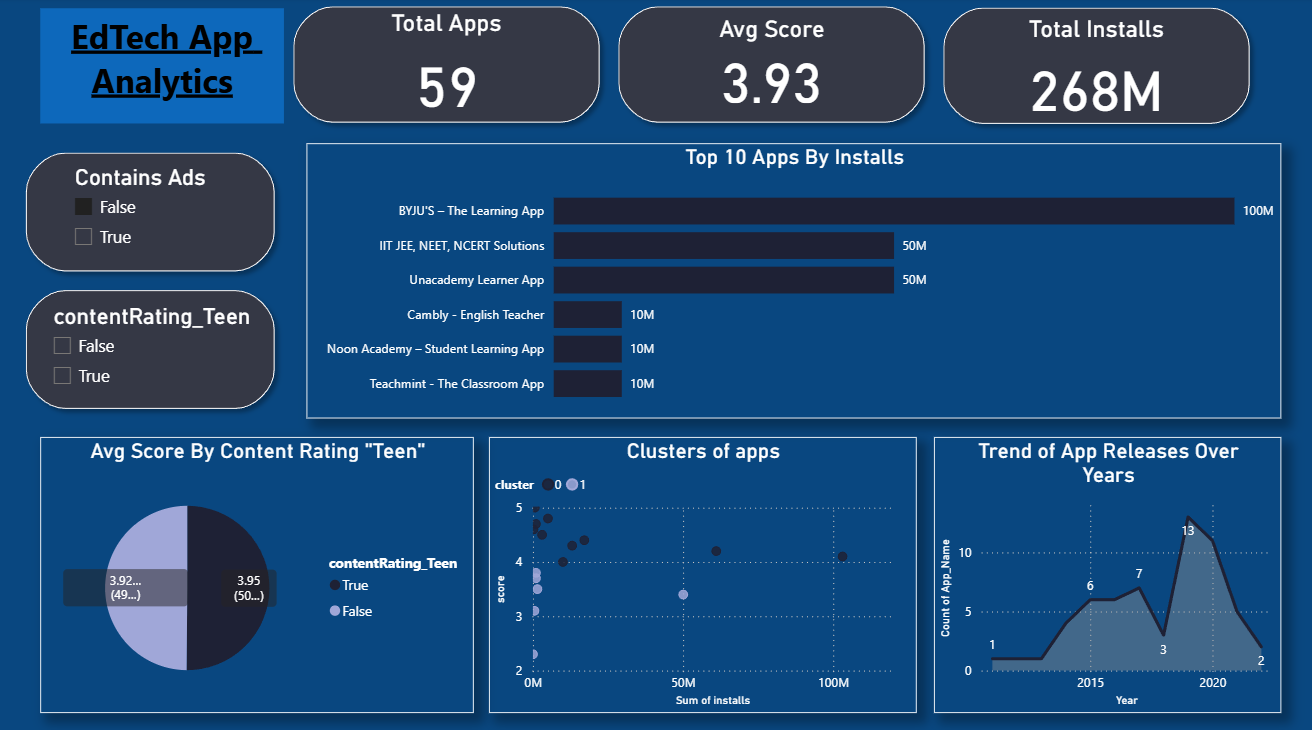

The dashboard page shown, as its layout file describes it:
{"tool":"powerbi","page":{"name":"Insights","canvas":[1280,720],"ordinal":0},"visuals":[{"type":"shape","box":[275.1,0,313.7,130.3],"z":0},{"type":"textbox","box":[39.8,10.9,235.3,111],"z":1000},{"type":"card","title":"Total Apps","fields":{"Values":["Count(edtech_with_clusters.App_Name)"]},"box":[339,10.9,185.8,111],"z":2000},{"type":"shape","box":[588.7,0,313.7,130.3],"z":3000},{"type":"card","title":"Avg Score","fields":{"Values":["Avg(edtech_with_clusters.score)"]},"box":[657.5,16.9,177.3,90.5],"z":4000},{"type":"shape","box":[902.4,1.2,313.7,130.3],"z":5000},{"type":"card","title":"Total Installs","fields":{"Values":["Sum(edtech_with_clusters.installs)"]},"box":[968.8,16.9,181,105],"z":6000},{"type":"shape","box":[16.9,141.2,258.2,132.7],"z":7000},{"type":"slicer","fields":{"Values":["edtech_with_clusters.containsAds_True"]},"box":[60.3,156.8,189.4,102.5],"z":8000},{"type":"shape","box":[16.9,273.9,258.2,132.7],"z":9000},{"type":"slicer","fields":{"Values":["edtech_with_clusters.contentRating_Teen"]},"box":[39.8,290.8,249.7,98.9],"z":10000},{"type":"barChart","title":"Top 10 Apps By Installs","fields":{"Category":["Top 10 Apps by Installs.App Name"],"Y":["Sum(Top 10 Apps by Installs.Installs)"]},"box":[296.8,141.2,941,265.4],"z":11000},{"type":"pieChart","title":"Avg Score By Content Rating \"Teen\"","fields":{"Category":["edtech_with_clusters.contentRating_Teen"],"Y":["Avg(edtech_with_clusters.score)"]},"box":[39.8,424.7,418.6,266.6],"z":12000},{"type":"scatterChart","title":"Clusters of apps","fields":{"X":["Sum(edtech_with_clusters.installs)"],"Y":["edtech_with_clusters.score"],"Series":["edtech_with_clusters.cluster"]},"box":[472.9,424.7,412.6,266.6],"z":13000},{"type":"lineChart","title":"Trend of App Releases Over Years","fields":{"Category":["edtech_with_clusters.Released Date.Variation.Date Hierarchy.Year"],"Y":["CountNonNull(edtech_with_clusters.App_Name)"]},"box":[902.4,424.7,335.4,266.6],"z":14000}]}

Visuals, with their boxes in screenshot pixels (x1, y1, x2, y2), scaled from the page's 1280x720 canvas onto the 1312x730 screenshot:
shape: select_region(282, 0, 604, 132)
textbox: select_region(41, 11, 282, 124)
"Total Apps" card: select_region(347, 11, 538, 124)
shape: select_region(603, 0, 925, 132)
"Avg Score" card: select_region(674, 17, 856, 109)
shape: select_region(925, 1, 1247, 133)
"Total Installs" card: select_region(993, 17, 1179, 124)
shape: select_region(17, 143, 282, 278)
slicer - edtech_with_clusters.containsAds_True: select_region(62, 159, 256, 263)
shape: select_region(17, 278, 282, 412)
slicer - edtech_with_clusters.contentRating_Teen: select_region(41, 295, 297, 395)
"Top 10 Apps By Installs" barChart: select_region(304, 143, 1269, 412)
"Avg Score By Content Rating "Teen"" pieChart: select_region(41, 431, 470, 701)
"Clusters of apps" scatterChart: select_region(485, 431, 908, 701)
"Trend of App Releases Over Years" lineChart: select_region(925, 431, 1269, 701)
